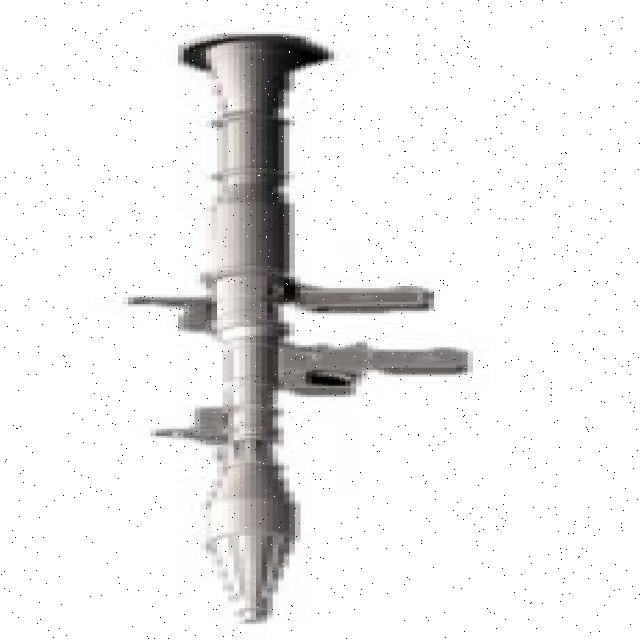bazooka: (126, 27, 493, 621)
